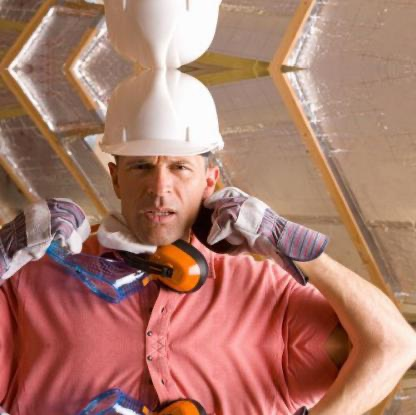Safety Helmet: (94, 69, 228, 247)
